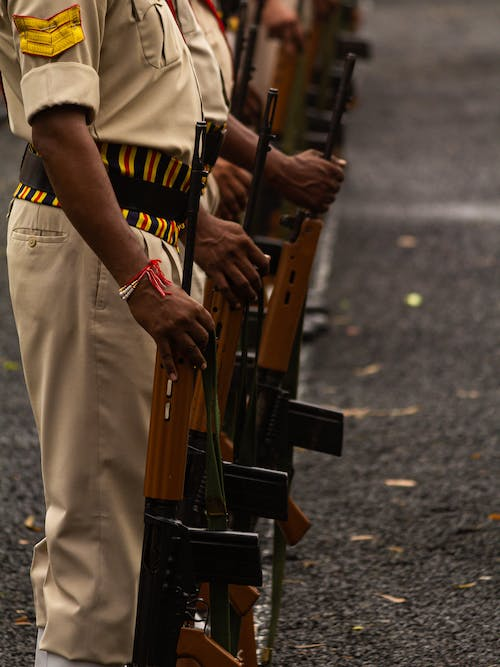gun: (128, 119, 264, 667), (229, 48, 359, 465), (176, 86, 291, 527)
